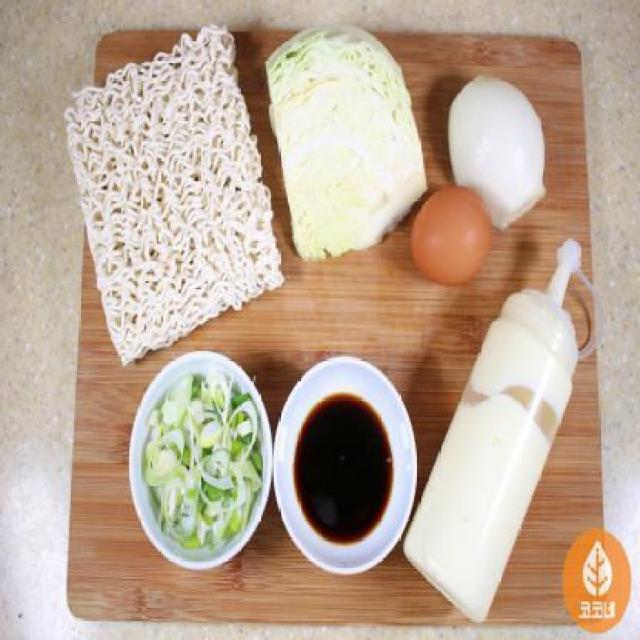Egg: (414, 188, 491, 275)
